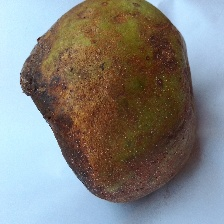guava: (5, 10, 201, 173)
